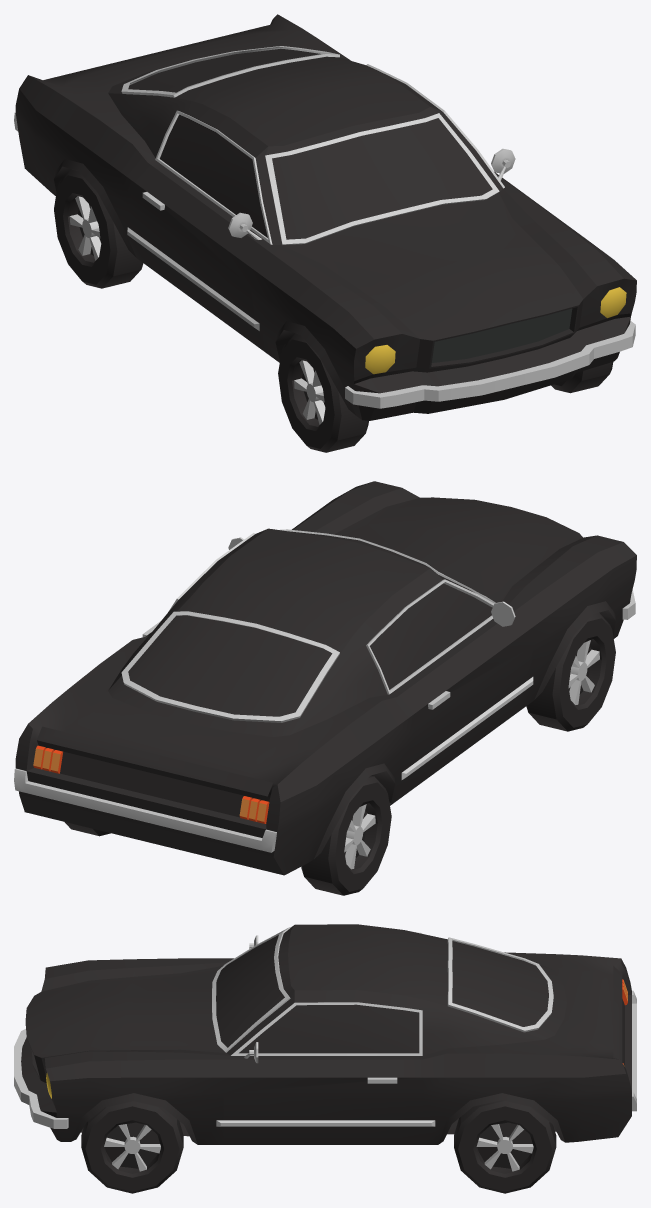
Rendered from Newmustang.fbx.
3 views of the same model, one above another, from view 1: azimuth 30°, elevation 25°; view 2: azimuth 150°, elevation 25°; view 3: azimuth 270°, elevation 25° (orthographic). The views are drawn at different scales.
Visible parts, largest first — view 1: Mustang.002; view 2: Mustang.002; view 3: Mustang.002.
Part boxes in pixels (x1,y1,x2,y2): Mustang.002: (14,14,636,452); Mustang.002: (14,481,636,895); Mustang.002: (14,924,636,1193).
Size of the model in its own units: 2.29 by 1.69 by 5.09.
1 material, 1 textured.
